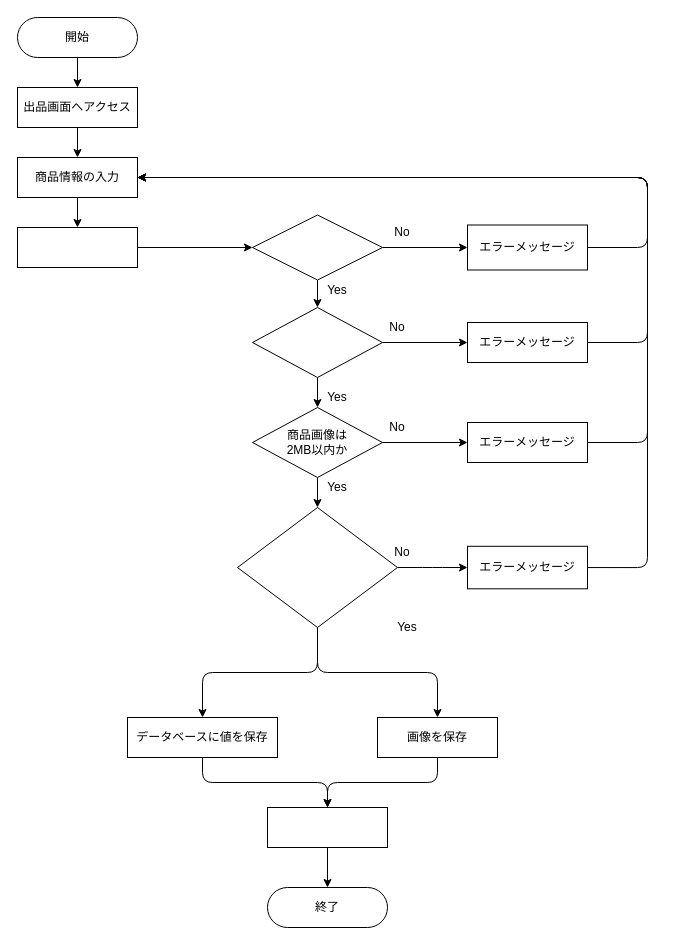
Some shapes in this 673 by 945 pixel diagram are drawn without their labels. The shapes that lost their labels are listed below. From the top down, each one's centre as x and y in pixels, then its label:
[77,247]: submitボタン押下
[317,247]: 全ての項目が 入力されたか
[317,342]: 詳細説明は 1000文字以内か
[317,567]: 商品画像の形式が .jpg/.jpeg/.gif/.pngの いずれかに 当てはまるか
[327,827]: 商品一覧へ遷移
